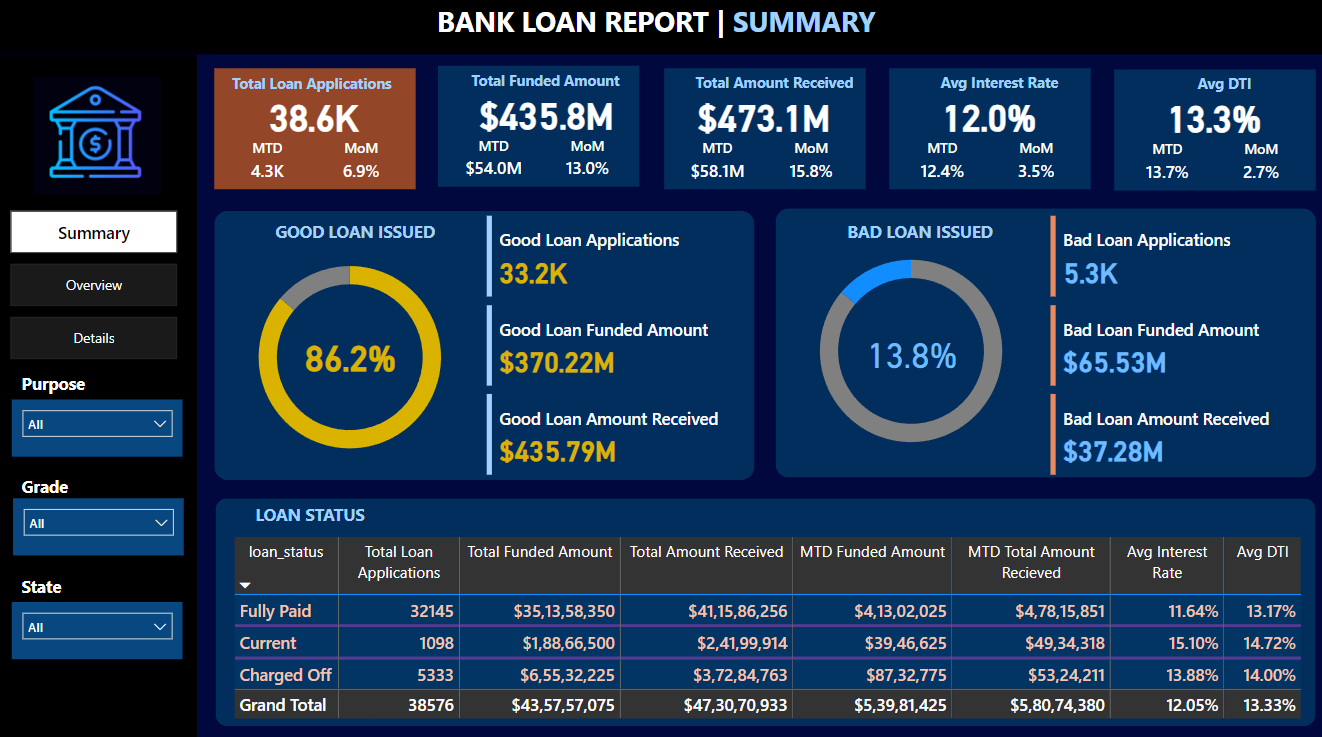

The page's visual inventory and layout, read from the dashboard file:
{"tool":"powerbi","page":{"name":"Summary","canvas":[1280,720],"ordinal":0},"visuals":[{"type":"shape","box":[210,483.3,1061.7,220],"z":0},{"type":"shape","box":[0,0,1280,55],"z":1000},{"type":"shape","box":[750,203.3,521.7,260],"z":2000},{"type":"shape","box":[0,55.5,192,665.6],"z":3000},{"type":"shape","box":[0,0,1280,55.5],"z":4000},{"type":"shape","box":[425,67.1,194.3,117.1],"z":4000,"group":"g2"},{"type":"shape","box":[208.8,68.6,194.8,116.9],"z":4000,"group":"g1"},{"type":"shape","box":[643.3,68.8,194.8,116.9],"z":4000,"group":"g3"},{"type":"shape","box":[860.2,68.8,194.8,116.9],"z":4000,"group":"g5"},{"type":"shape","box":[1077.1,70.3,194.8,116.9],"z":4000,"group":"g4"},{"type":"textbox","box":[418.3,0,445,55],"z":5000},{"type":"card","title":"MTD","fields":{"Values":["bank_loan_data.MTD Funded Application"]},"box":[444.2,134.4,68.8,48.8],"z":5000,"group":"g2"},{"type":"card","title":"MTD","fields":{"Values":["bank_loan_data.MTD Loan Application"]},"box":[225.7,135.7,68.8,48.8],"z":5000,"group":"g1"},{"type":"card","title":"MTD","fields":{"Values":["bank_loan_data.MTD Total Amount Recieved"]},"box":[660.1,135.9,68.8,48.8],"z":5000,"group":"g3"},{"type":"card","title":"MTD","fields":{"Values":["bank_loan_data.MTD Avg Int Rate"]},"box":[877.1,135.9,68.8,48.8],"z":5000,"group":"g5"},{"type":"card","title":"MTD","fields":{"Values":["bank_loan_data.MTD Avg DTI"]},"box":[1094,137.4,68.8,48.8],"z":5000,"group":"g4"},{"type":"donutChart","fields":{"Category":["bank_loan_data.Loan Type"],"Y":["bank_loan_data.Total Loan Applications"]},"box":[756.7,227.8,250,230],"z":5000,"group":"g7"},{"type":"textbox","box":[439.5,66.9,178.3,30],"z":6000,"group":"g2"},{"type":"textbox","box":[660.1,67.1,178.8,30],"z":6000,"group":"g3"},{"type":"textbox","box":[877.1,67.1,178.8,30],"z":6000,"group":"g5"},{"type":"group","id":"g1","title":"Group 1","box":[208.8,68.4,194.8,117.1],"z":6000},{"type":"textbox","box":[220.6,68.4,178.6,30],"z":6000,"group":"g1"},{"type":"textbox","box":[1094,68.6,178.8,30],"z":6000,"group":"g4"},{"type":"textbox","box":[255,210.6,180,48.3],"z":6000,"group":"g8"},{"type":"textbox","box":[800.6,210.6,180,40],"z":6000,"group":"g7"},{"type":"group","id":"g2","title":"Group 1","box":[425,66.9,194.3,117.3],"z":7000},{"type":"card","fields":{"Values":["bank_loan_data.Total Funded Amount"]},"box":[450,81.7,158.9,61.1],"z":7000,"group":"g6"},{"type":"card","fields":{"Values":["bank_loan_data.Total Loan Applications"]},"box":[225.7,83.2,158.8,61.2],"z":7000,"group":"g1"},{"type":"card","fields":{"Values":["bank_loan_data.Avg Interest Rate"]},"box":[877.1,83.3,158.8,61.2],"z":7000,"group":"g5"},{"type":"card","fields":{"Values":["bank_loan_data.Total Amount Received"]},"box":[660.1,83.4,158.8,61.2],"z":7000,"group":"g3"},{"type":"card","fields":{"Values":["bank_loan_data.Avg DTI"]},"box":[1094,84.8,158.8,61.2],"z":7000,"group":"g4"},{"type":"card","title":"MoM","fields":{"Values":["bank_loan_data.Mom Total Funded Amount"]},"box":[534.2,134.4,68.8,48.8],"z":8000,"group":"g2"},{"type":"card","title":"MoM","fields":{"Values":["bank_loan_data.Mom Loan Applications"]},"box":[315.7,135.7,68.8,48.8],"z":8000,"group":"g1"},{"type":"card","title":"MoM","fields":{"Values":["bank_loan_data.Mom Total Amount Received"]},"box":[750.1,135.9,68.8,48.8],"z":8000,"group":"g3"},{"type":"card","title":"MoM","fields":{"Values":["bank_loan_data.MoM Avg Int Rate"]},"box":[967.1,135.9,68.8,48.8],"z":8000,"group":"g5"},{"type":"card","title":"MoM","fields":{"Values":["bank_loan_data.MoM Avg DTI"]},"box":[1184,137.4,68.8,48.8],"z":8000,"group":"g4"},{"type":"textbox","box":[215,483.3,168.3,33.3],"z":8000},{"type":"shape","box":[208.6,205.7,521.4,260],"z":9000},{"type":"group","id":"g3","title":"Group 1","box":[28.6,67.1,810.3,129.7],"z":10000},{"type":"group","id":"g4","title":"Group 1","box":[1077.1,68.6,194.3,118.6],"z":11000},{"type":"donutChart","fields":{"Category":["bank_loan_data.Loan Type"],"Y":["bank_loan_data.Total Loan Applications"]},"box":[215,233.4,250,230],"z":11500,"group":"g8"},{"type":"card","fields":{"Values":["bank_loan_data.Bad Loan %"]},"box":[818.3,313.3,128.3,60],"z":12000},{"type":"cardVisual","fields":{"Data":["bank_loan_data.Good Loan Applications","bank_loan_data.Good Loan Funded Amount","bank_loan_data.Good Loan Amount Received"]},"box":[466.6,206.7,257.1,260],"z":12001,"group":"g8"},{"type":"cardVisual","fields":{"Data":["bank_loan_data.Bad Loan Applications","bank_loan_data.Bad Loan Funded Amount","bank_loan_data.Bad Loan Amount Received"]},"box":[1010.8,206.7,257.1,260],"z":12001,"group":"g7"},{"type":"group","id":"g5","title":"Group 1","box":[860.2,67.1,195.7,118.6],"z":13000},{"type":"group","id":"g6","title":"Group 1","box":[450,81.7,158.3,61.7],"z":14000},{"type":"group","id":"g7","title":"Group 2","box":[756.7,206.7,511.2,260],"z":15000},{"type":"group","id":"g8","title":"Group 2","box":[215,206.7,508.8,260],"z":16000},{"type":"card","fields":{"Values":["bank_loan_data.Good Loan %"]},"box":[275,316.7,130,61.7],"z":17000},{"type":"tableEx","fields":{"Values":["bank_loan_data.loan_status","bank_loan_data.Total Loan Applications","bank_loan_data.Total Funded Amount","bank_loan_data.Total Amount Received","bank_loan_data.MTD Funded Amount","bank_loan_data.MTD Total Amount Recieved","bank_loan_data.Avg Interest Rate","bank_loan_data.Avg DTI"]},"box":[221.7,516.7,1045,186.7],"z":18000},{"type":"slicer","fields":{"Values":["bank_loan_data.grade"]},"box":[15,483.3,165,55],"z":19000},{"type":"slicer","fields":{"Values":["bank_loan_data.address_state"]},"box":[13.3,583.4,165,55],"z":19000,"group":"g9"},{"type":"group","id":"g9","title":"Group 3","box":[13.3,356.7,165,281.7],"z":20000},{"type":"textbox","box":[13.3,551.7,146.7,31.7],"z":20000,"group":"g9"},{"type":"image","box":[28.6,69.8,132.7,127],"z":20001,"group":"g3"},{"type":"pageNavigator","box":[11.5,206.3,161.6,145.7],"z":21000},{"type":"textbox","box":[13.3,455,146.7,31.7],"z":22000,"group":"g9"},{"type":"slicer","fields":{"Values":["bank_loan_data.purpose"]},"box":[13.3,388.4,165,55],"z":23000,"group":"g9"},{"type":"textbox","box":[13.3,356.7,146.7,31.7],"z":24000,"group":"g9"}]}

Visuals, with their boxes in screenshot pixels (x1, y1, x2, y2), scaled from the page's 1280x720 canvas onto the 1322x737 screenshot:
shape: 217/495/1313/720
shape: 0/0/1321/56
shape: 775/208/1313/474
shape: 0/57/198/736
shape: 0/0/1321/57
shape: 439/69/640/189
shape: 216/70/417/190
shape: 664/70/866/190
shape: 888/70/1090/190
shape: 1112/72/1314/192
textbox: 432/0/892/56
"MTD" card: 459/138/530/188
"MTD" card: 233/139/304/189
"MTD" card: 682/139/753/189
"MTD" card: 906/139/977/189
"MTD" card: 1130/141/1201/191
donutChart - bank_loan_data.Loan Type x bank_loan_data.Total Loan Applications: 782/233/1040/469
textbox: 454/68/638/99
textbox: 682/69/866/99
textbox: 906/69/1091/99
"Group 1" group: 216/70/417/190
textbox: 228/70/412/101
textbox: 1130/70/1315/101
textbox: 263/216/449/265
textbox: 827/216/1013/257
"Group 1" group: 439/68/640/189
card - bank_loan_data.Total Funded Amount: 465/84/629/146
card - bank_loan_data.Total Loan Applications: 233/85/397/148
card - bank_loan_data.Avg Interest Rate: 906/85/1070/148
card - bank_loan_data.Total Amount Received: 682/85/846/148
card - bank_loan_data.Avg DTI: 1130/87/1294/149
"MoM" card: 552/138/623/188
"MoM" card: 326/139/397/189
"MoM" card: 775/139/846/189
"MoM" card: 999/139/1070/189
"MoM" card: 1223/141/1294/191
textbox: 222/495/396/529
shape: 215/211/754/477
"Group 1" group: 30/69/866/201
"Group 1" group: 1112/70/1313/192
donutChart - bank_loan_data.Loan Type x bank_loan_data.Total Loan Applications: 222/239/480/474
card - bank_loan_data.Bad Loan %: 845/321/978/382
cardVisual - bank_loan_data.Good Loan Applications x bank_loan_data.Good Loan Funded Amount: 482/212/747/478
cardVisual - bank_loan_data.Bad Loan Applications x bank_loan_data.Bad Loan Funded Amount: 1044/212/1310/478
"Group 1" group: 888/69/1091/190
"Group 1" group: 465/84/628/147
"Group 2" group: 782/212/1310/478
"Group 2" group: 222/212/748/478
card - bank_loan_data.Good Loan %: 284/324/418/387
tableEx - bank_loan_data.loan_status x bank_loan_data.Total Loan Applications: 229/529/1308/720
slicer - bank_loan_data.grade: 15/495/186/551
slicer - bank_loan_data.address_state: 14/597/184/653
"Group 3" group: 14/365/184/653
textbox: 14/565/165/597
image: 30/71/167/201
pageNavigator: 12/211/179/360
textbox: 14/466/165/498
slicer - bank_loan_data.purpose: 14/398/184/454
textbox: 14/365/165/398
